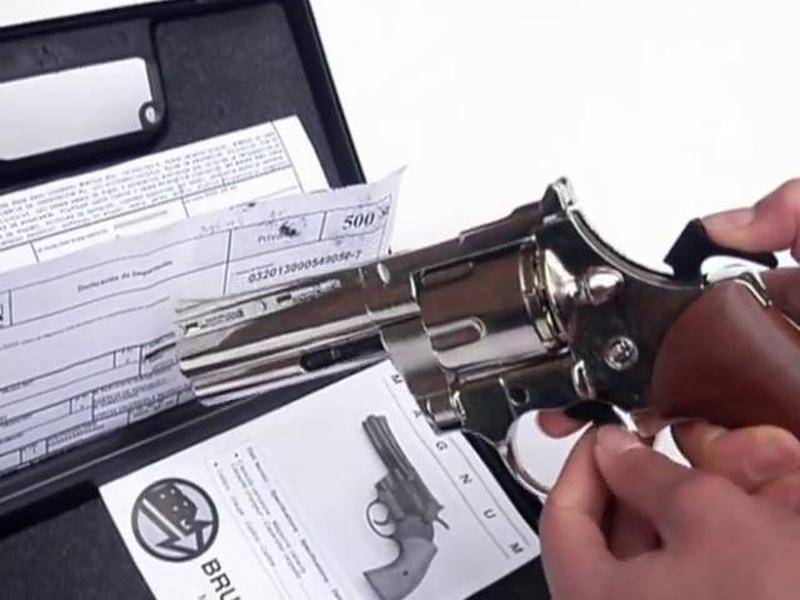Revolver: (145, 155, 743, 528)
